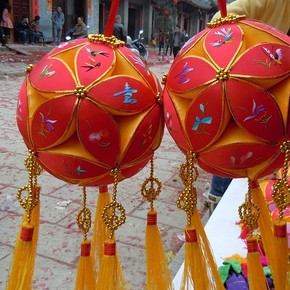xiuqiu: (18, 37, 163, 187), (163, 22, 290, 177)
